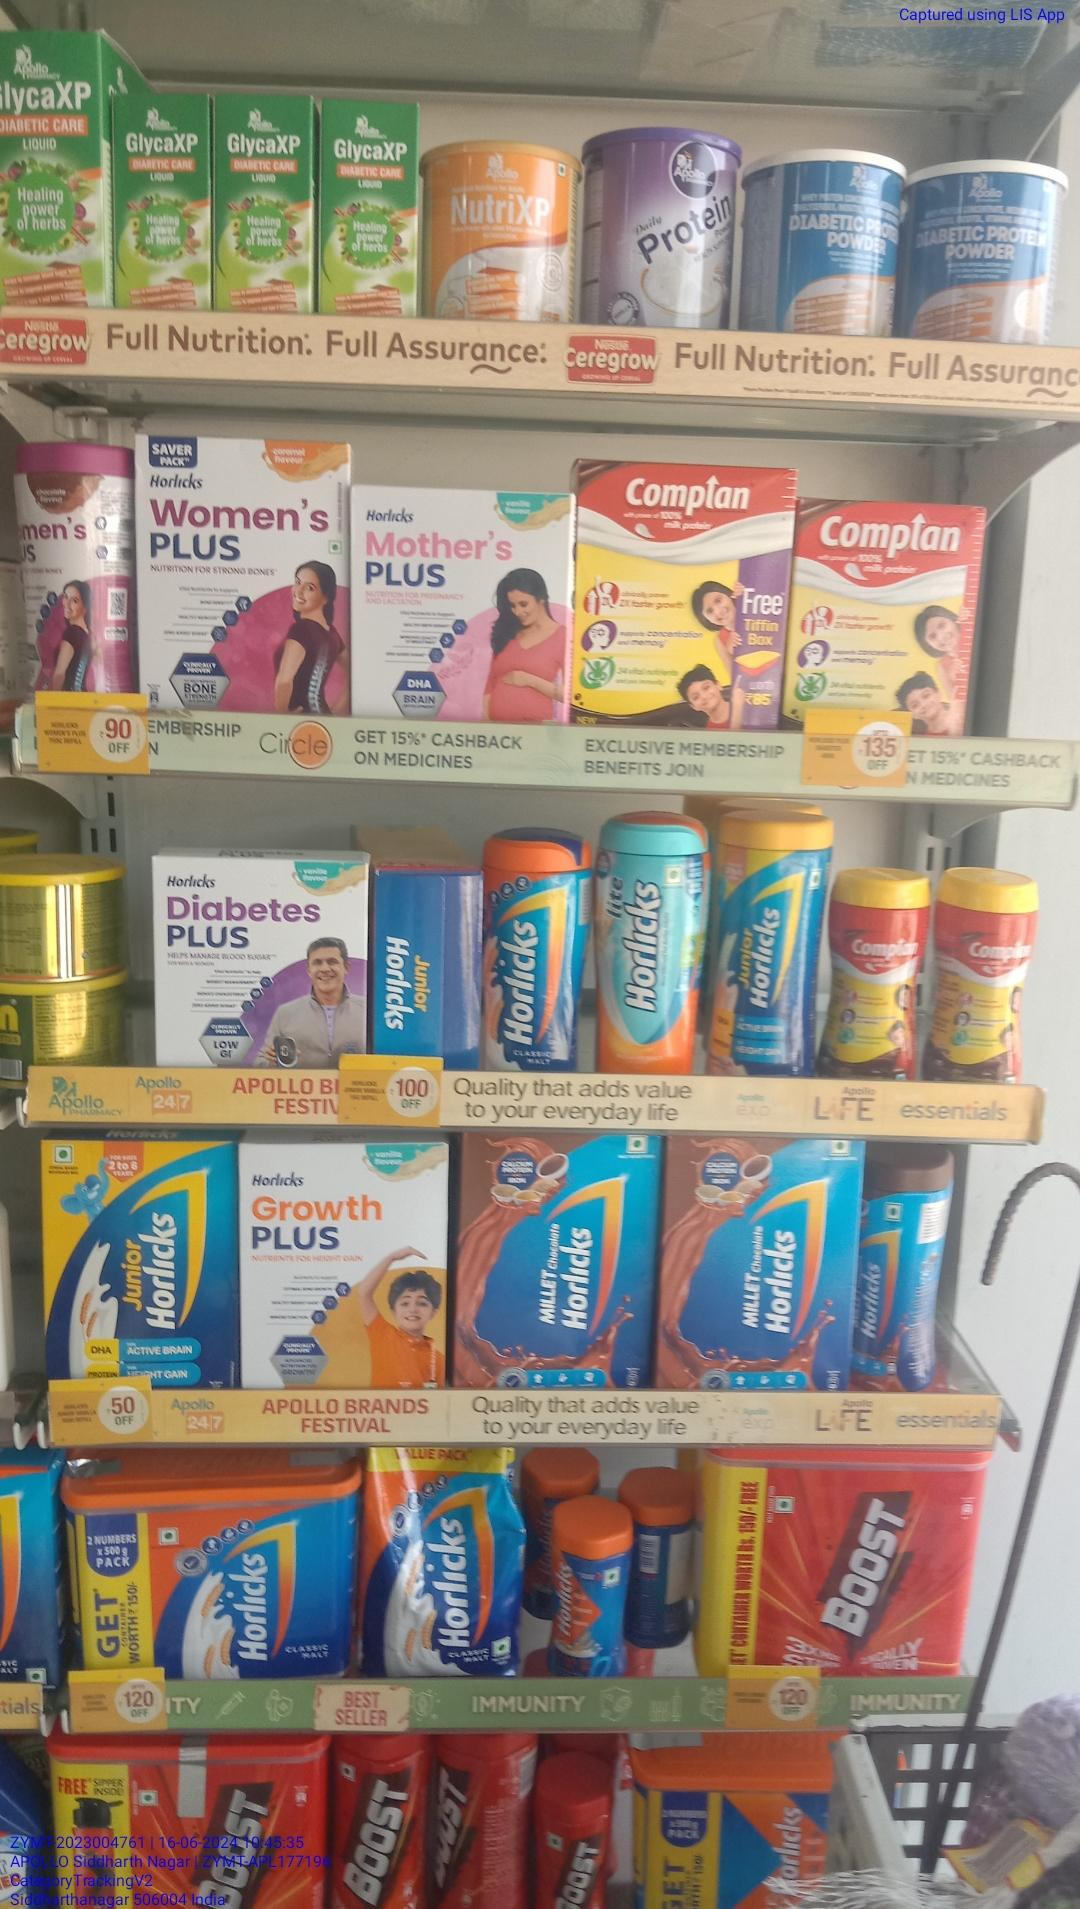COMPLAN_CHOCOLATE_200_GMS_JAR: (931, 867, 1026, 1087), (835, 875, 919, 1083)
COMPLAN_CHOCOLATE_200_GMS_PACK: (786, 498, 980, 708)
HORLICKS_JUNIOR_VANILLA_500_GM_JAR: (709, 816, 828, 1078)
HORLICKS_LITE_REGULAR_MALT_500_GM_JAR: (588, 816, 703, 1079)
HORLICK_CLASSIC_MALT_200_G_JAR: (553, 1518, 629, 1677)
HORLICK_CLASSIC_MALT_500_G_JAR: (488, 835, 579, 1070)
HORLICK_CLASSIC_MALT_750_G_POUCH: (366, 1447, 520, 1673)
HORLICK_MALT_1_KG_CONTAINER: (64, 1489, 350, 1668), (633, 1774, 831, 1909)
